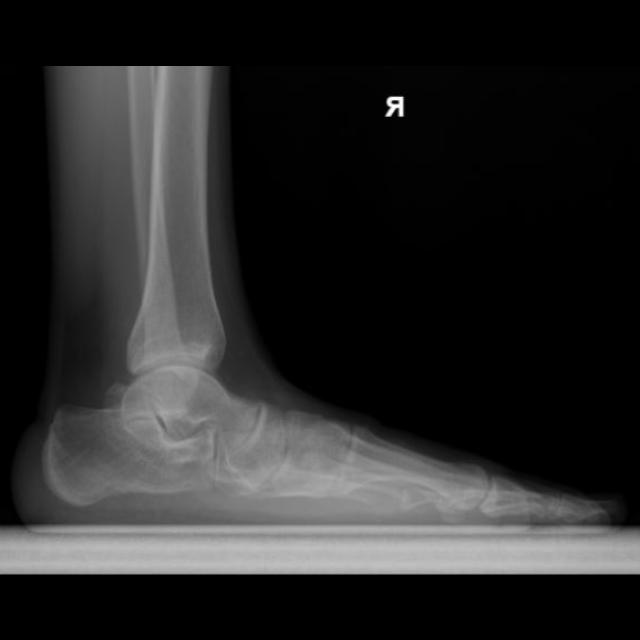a: (43, 404, 216, 507)
b: (229, 401, 287, 498)
c: (327, 424, 488, 507)
